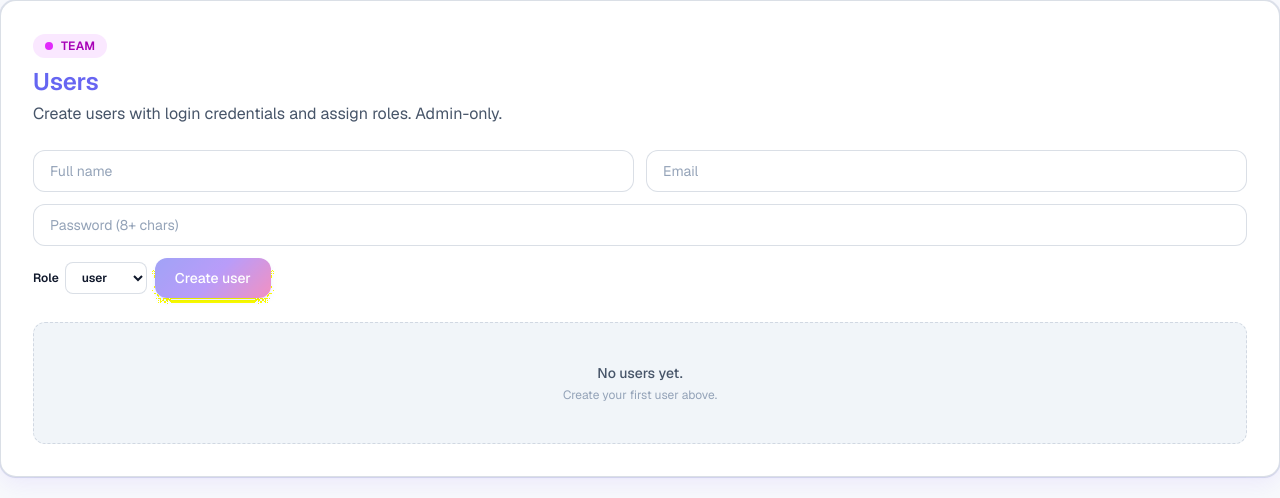
Scenario: UsersSection › creates a user through the API
Type "Jordan Lee" into the field named "New user name". click: (334, 171)
box: [33, 150, 634, 192]
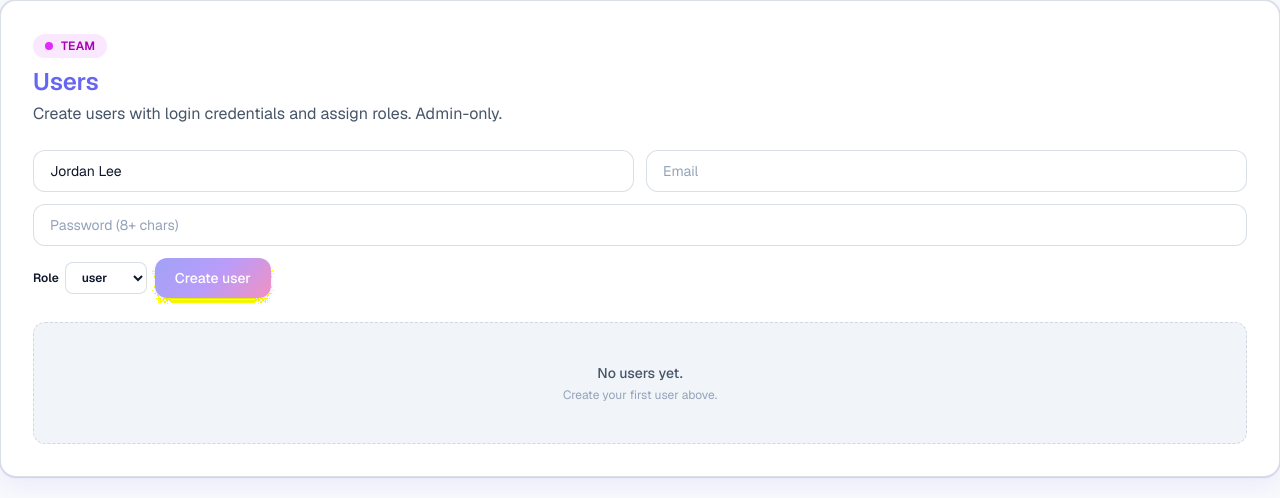
Type "jordan@example.com" into the field named "New user email". click: (946, 171)
box: [646, 150, 1247, 192]
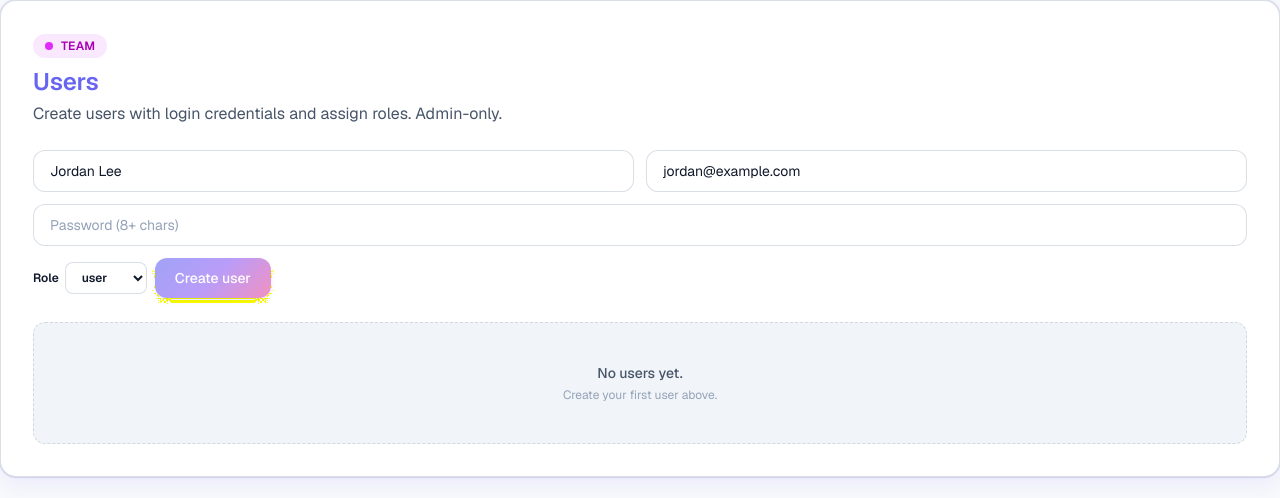
Type "password123" into the password field named "New user password". click: (640, 225)
box: [33, 204, 1247, 246]
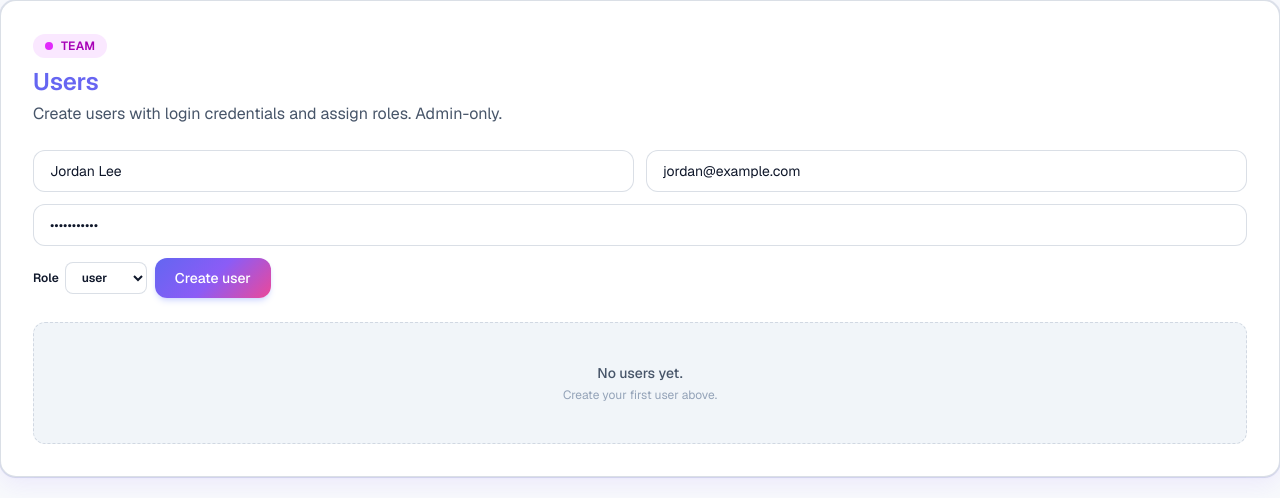
Select "admin" in the dropdown named "New user role". click: (106, 278)
box: [65, 262, 147, 294]
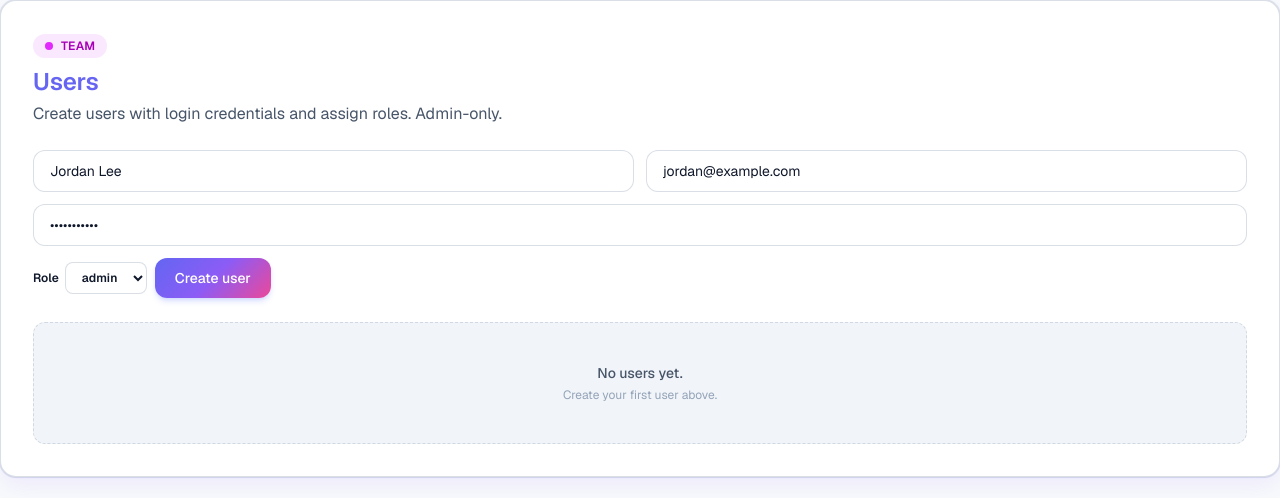
Click the button "Create user". click: (213, 278)
box: [155, 258, 271, 298]
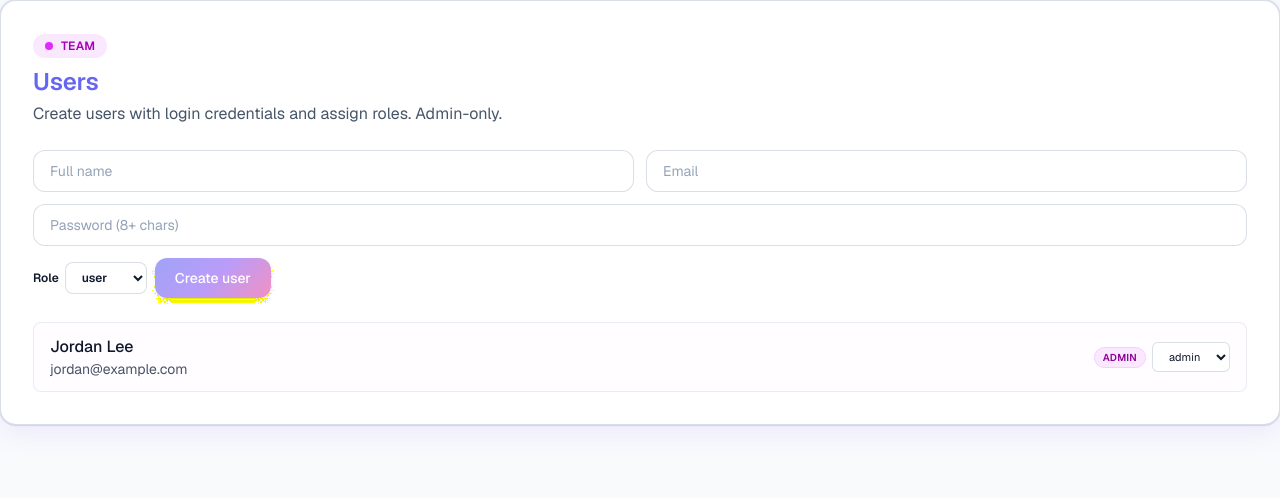
Expected: the text "Jordan Lee" is shown, [50, 336, 134, 357]
